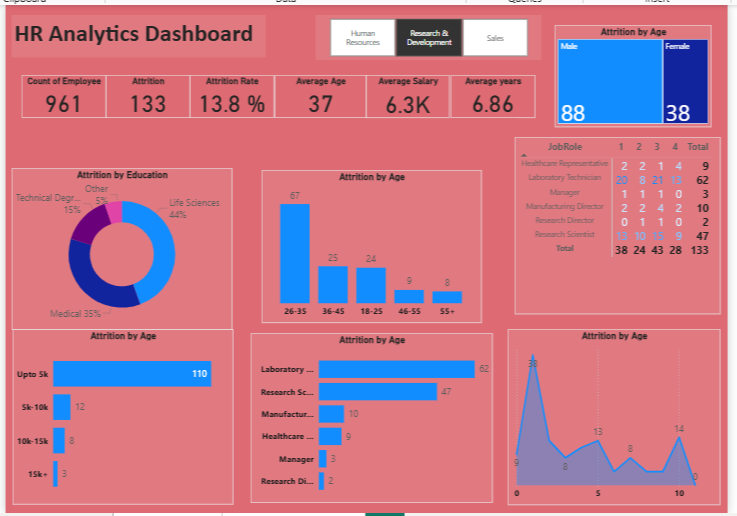

This screenshot's page, from the dashboard's own definition file:
{"tool":"powerbi","page":{"name":"HR Analytics","canvas":[1280,900],"ordinal":0},"visuals":[{"type":"card","title":"Count of Employee","fields":{"Values":["CountNonNull(HR_Analytics.EmpID)"]},"box":[27.8,123.6,149.5,75.6],"z":0},{"type":"card","title":"Attrition","fields":{"Values":["Sum(HR_Analytics.Attrition Count)"]},"box":[177.3,123.6,149.5,75.6],"z":1000},{"type":"card","title":"Average years","fields":{"Values":["Avg(HR_Analytics.YearsAtCompany)"]},"box":[788.7,123.6,149.5,75.6],"z":2000},{"type":"card","title":"Average Salary","fields":{"Values":["Avg(HR_Analytics.MonthlyIncome)"]},"box":[638.7,123.4,149.4,76.4],"z":3000},{"type":"card","title":"Average Age","fields":{"Values":["Avg(HR_Analytics.Age)"]},"box":[476.3,123.6,162.9,75.6],"z":4000},{"type":"card","title":"Attrition Rate","fields":{"Values":["HR_Analytics.Attrition Rate"]},"box":[326.8,123.6,149.5,75.6],"z":5000},{"type":"donutChart","title":"Attrition by Education","fields":{"Category":["HR_Analytics.EducationField"],"Y":["Sum(HR_Analytics.Attrition Count)"]},"box":[10.4,288.4,390.9,286.7],"z":6000},{"type":"columnChart","title":"Attrition by Age","fields":{"Category":["HR_Analytics.AgeGroup"],"Y":["Sum(HR_Analytics.Attrition Count)"]},"box":[453.5,292.3,389.8,271.1],"z":7000},{"type":"pivotTable","fields":{"Rows":["HR_Analytics.JobRole"],"Columns":["HR_Analytics.JobSatisfaction"],"Values":["Sum(HR_Analytics.Attrition Count)"]},"box":[902.3,233.9,364.9,314.5],"z":8000},{"type":"clusteredBarChart","title":"Attrition by Age","fields":{"Category":["HR_Analytics.SalarySlab"],"Y":["Sum(HR_Analytics.Attrition Count)"]},"box":[12.7,574.4,390.9,311],"z":9000},{"type":"clusteredBarChart","title":"Attrition by Age","fields":{"Y":["Sum(HR_Analytics.Attrition Count)"],"Category":["HR_Analytics.JobRole"]},"box":[433.7,580.3,429.2,300.6],"z":10000},{"type":"areaChart","title":"Attrition by Age","fields":{"Category":["HR_Analytics.YearsAtCompany"],"Y":["Sum(HR_Analytics.Attrition Count)"]},"box":[890.1,574.4,389.2,311],"z":11000},{"type":"treemap","title":"Attrition by Age","fields":{"Group":["HR_Analytics.Gender"],"Values":["Sum(HR_Analytics.Attrition Count)"]},"box":[973,34.7,278,180.7],"z":12000},{"type":"slicer","fields":{"Values":["HR_Analytics.Department"]},"box":[550,17,400,80],"z":13000},{"type":"textbox","box":[10,17,450,75],"z":14000}]}

Visuals, with their boxes on the page's 1280x900 design canvas (x1, y1, x2, y2). These are canvas units, not pixel positions in the 737x516 screenshot, which may show the page scaled, cropped or inside an application window:
"Count of Employee" card: <box>28,124,177,199</box>
"Attrition" card: <box>177,124,327,199</box>
"Average years" card: <box>789,124,938,199</box>
"Average Salary" card: <box>639,123,788,200</box>
"Average Age" card: <box>476,124,639,199</box>
"Attrition Rate" card: <box>327,124,476,199</box>
"Attrition by Education" donutChart: <box>10,288,401,575</box>
"Attrition by Age" columnChart: <box>454,292,843,563</box>
pivotTable - HR_Analytics.JobRole x HR_Analytics.JobSatisfaction: <box>902,234,1267,548</box>
"Attrition by Age" clusteredBarChart: <box>13,574,404,885</box>
"Attrition by Age" clusteredBarChart: <box>434,580,863,881</box>
"Attrition by Age" areaChart: <box>890,574,1279,885</box>
"Attrition by Age" treemap: <box>973,35,1251,215</box>
slicer - HR_Analytics.Department: <box>550,17,950,97</box>
textbox: <box>10,17,460,92</box>
